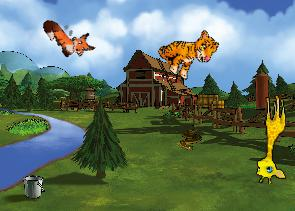fox: (39, 5, 98, 67)
giraffe: (254, 94, 286, 184)
tiger: (153, 16, 222, 86)
